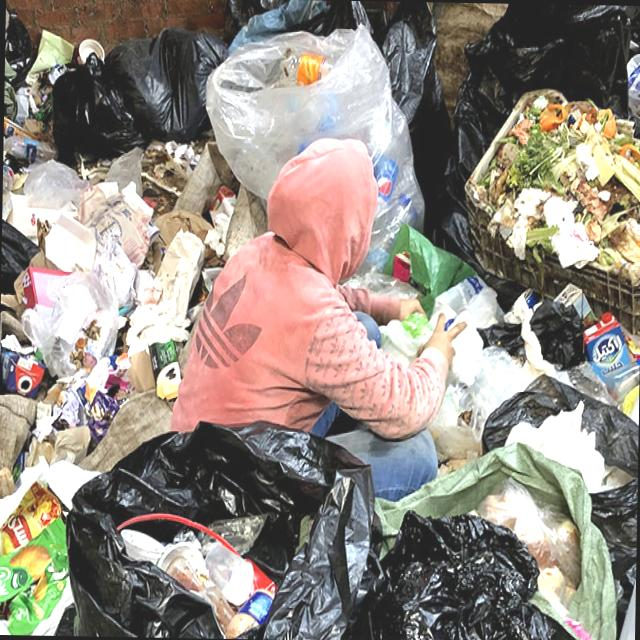garbage: (19, 72, 201, 638)
